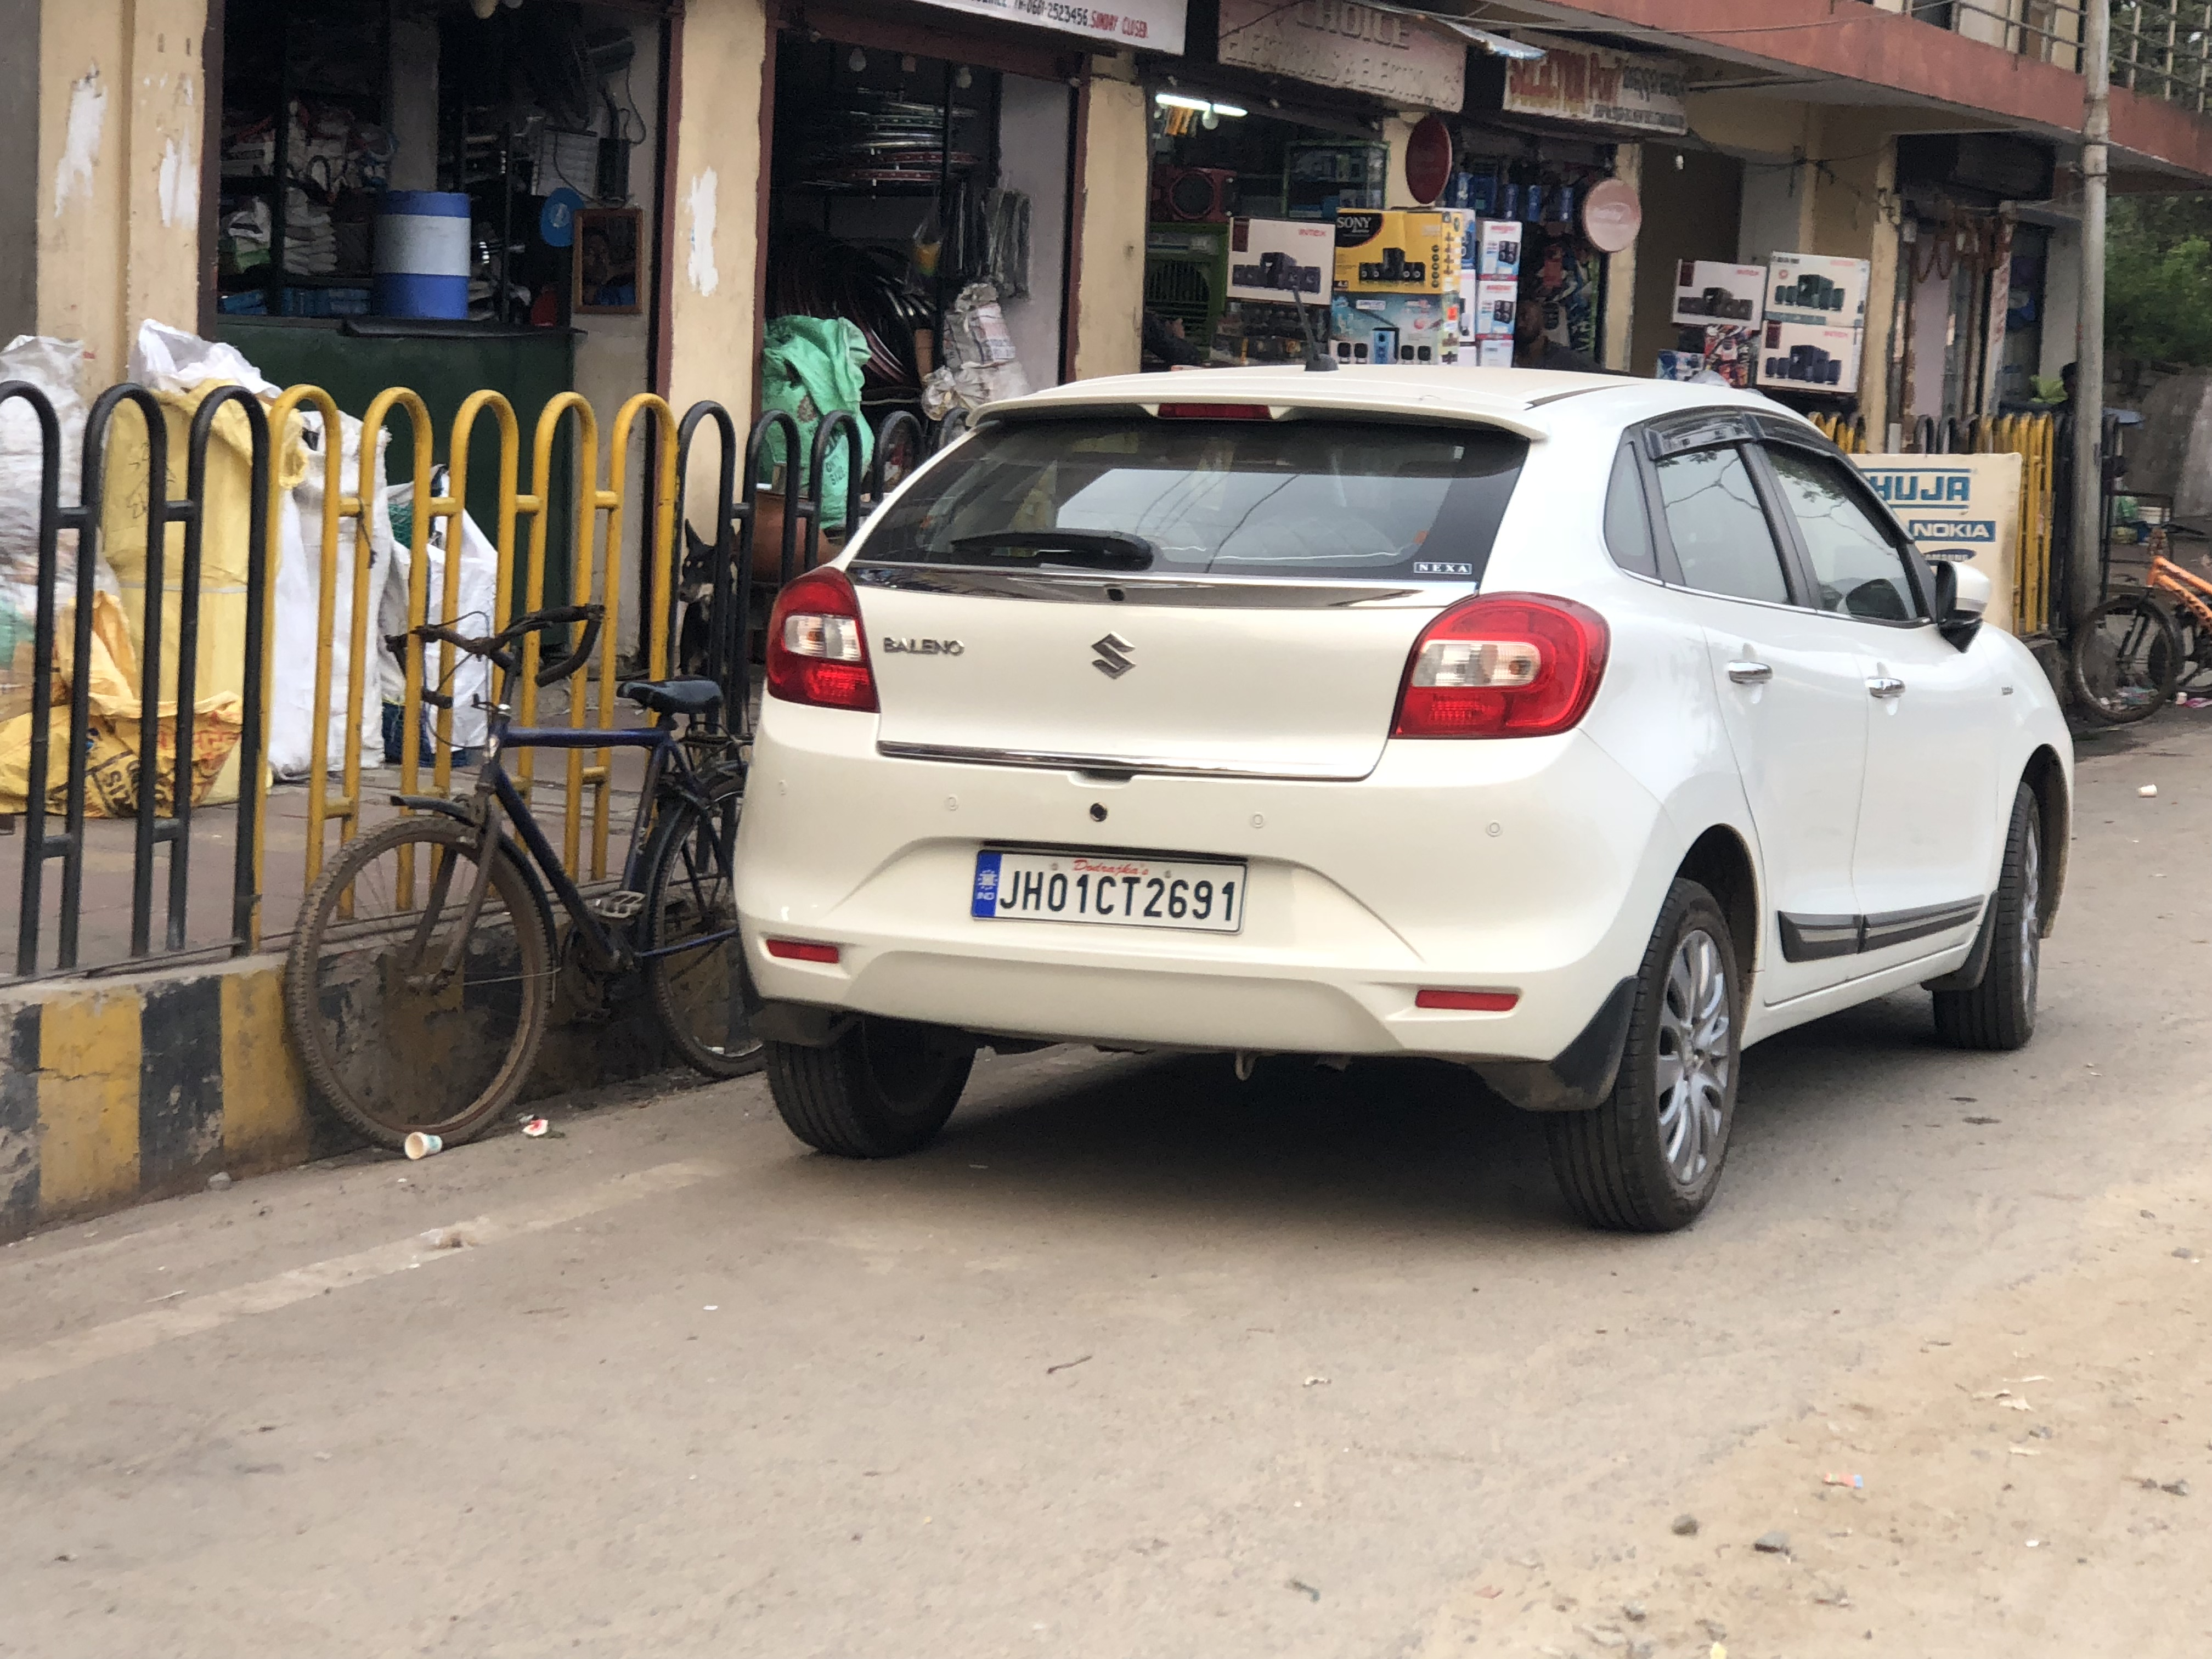licenseplate: (966, 842, 1255, 954)
